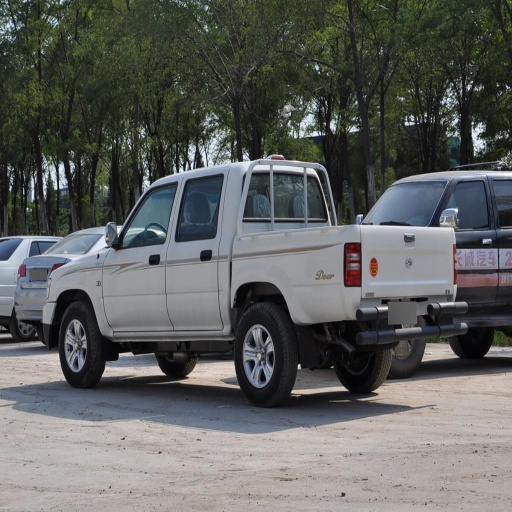back_glass: (377, 179, 487, 224)
back_left_door: (167, 180, 222, 324)
trunk: (186, 226, 502, 337)
